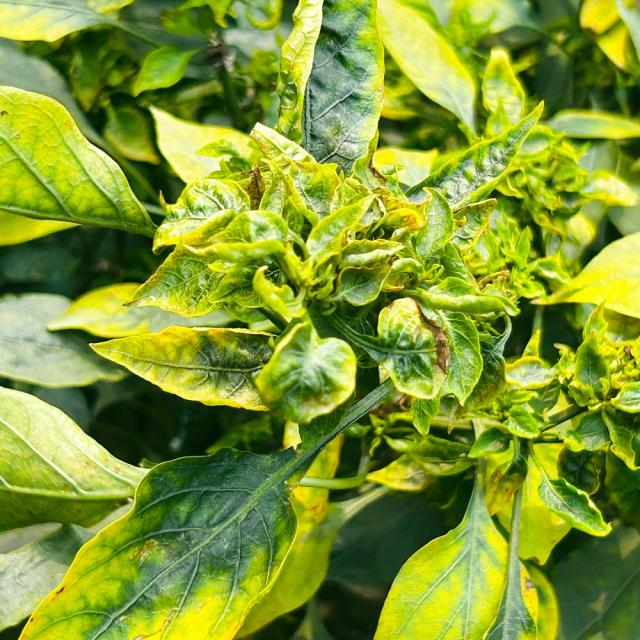Chilli_Leaf_Curl: (1, 1, 638, 638), (64, 97, 544, 440), (17, 444, 300, 639), (0, 84, 158, 245), (88, 323, 279, 412), (254, 314, 357, 425)
